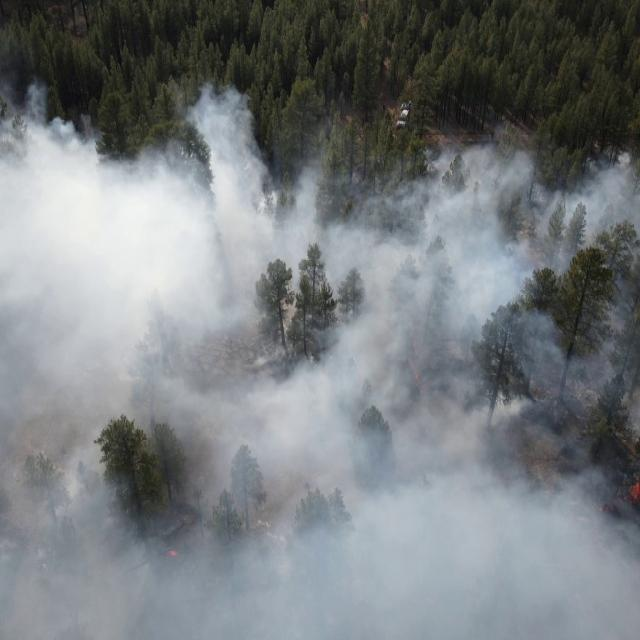fire: (595, 466, 640, 516), (406, 355, 428, 396), (162, 543, 182, 563)
smoke: (0, 122, 640, 640), (0, 26, 58, 122), (164, 73, 256, 123)
